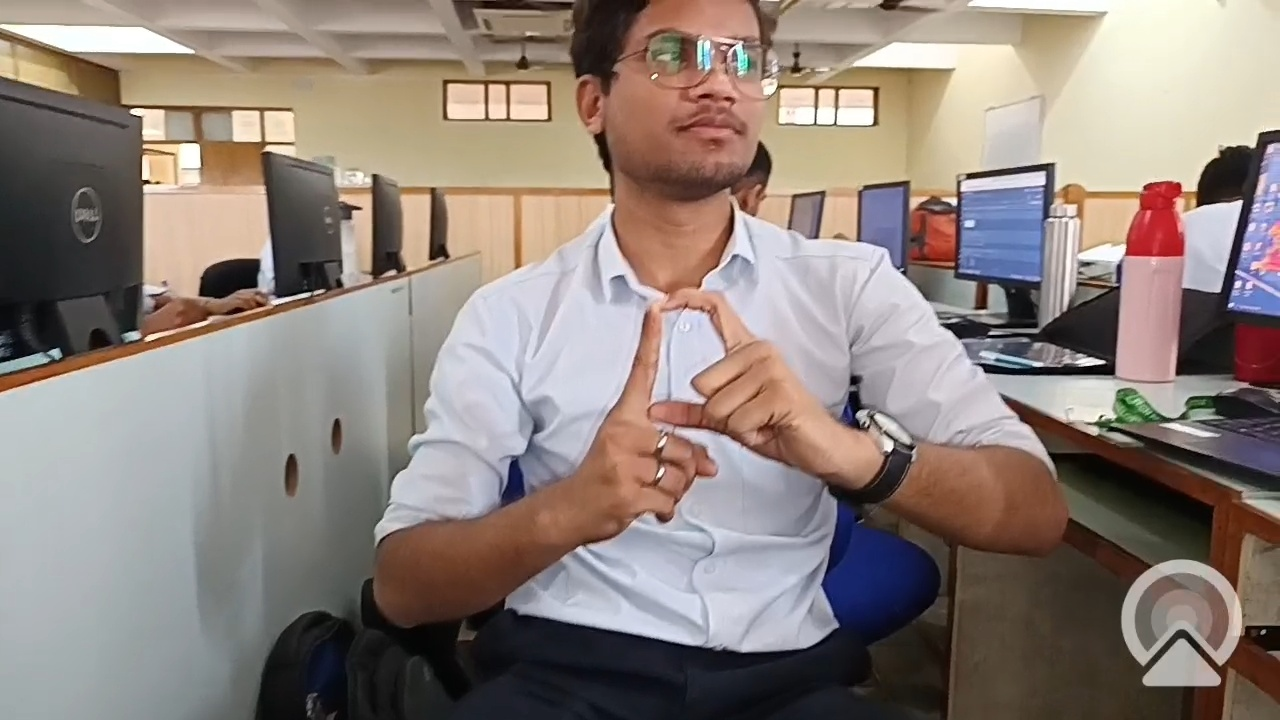D: (597, 275, 831, 460)
